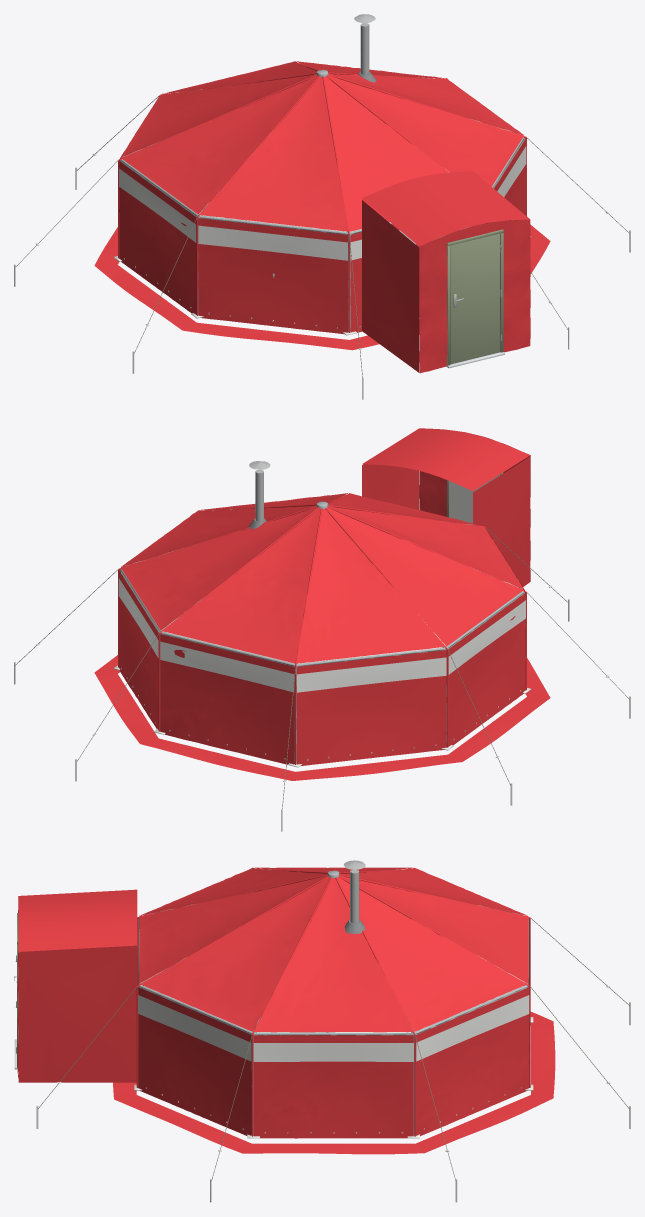
File: polar-chief-camp.glb
3 renders of one model, top to bottom at view 1: azimuth 30°, elevation 25°; view 2: azimuth 150°, elevation 25°; view 3: azimuth 270°, elevation 25°, orthographic. The views are drawn at different scales.
Visible parts, largest first — view 1: POLARCHIEF_shelter; view 2: POLARCHIEF_shelter, POLARCHIEF_interior; view 3: POLARCHIEF_shelter, POLARCHIEF_interior.
Boxes of the visible parts, x1,y1,x2,y2 form: POLARCHIEF_shelter: (14,14,630,399); POLARCHIEF_shelter: (14,428,630,831); POLARCHIEF_interior: (121,521,523,666); POLARCHIEF_shelter: (14,860,630,1202); POLARCHIEF_interior: (139,904,526,1086).
Size of the model in its own units: 8.52 by 3.81 by 8.85.
